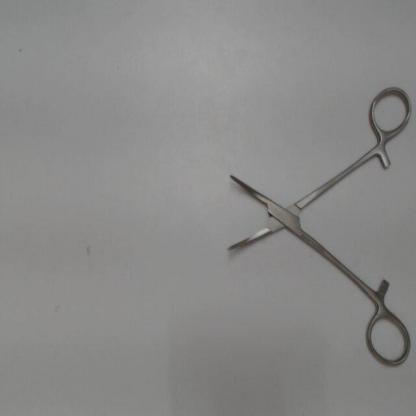Crile Artery Forceps: (216, 82, 414, 374)
